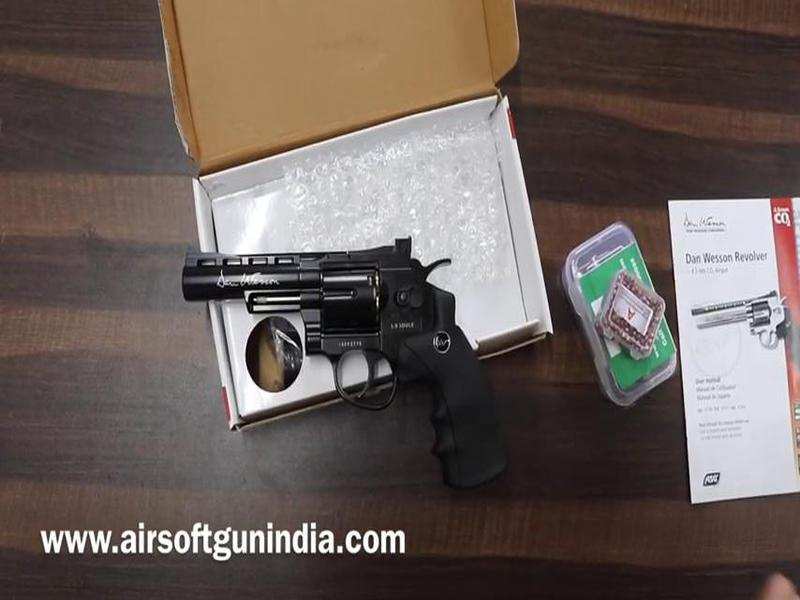Revolver: (178, 234, 483, 416)
